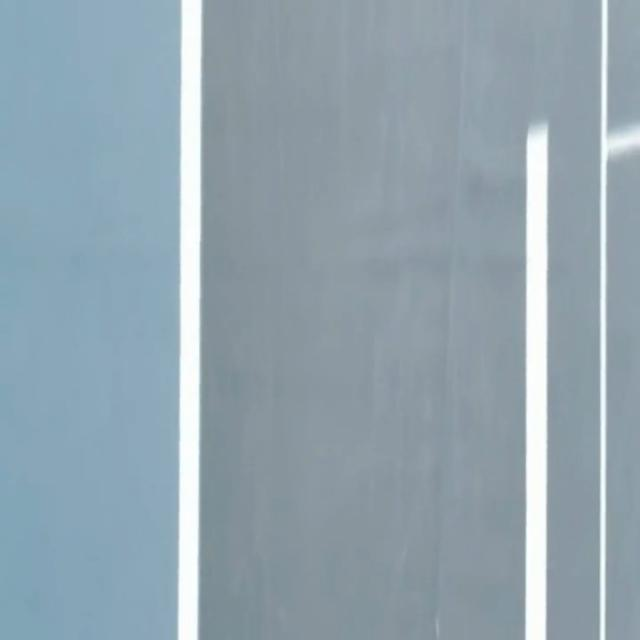center: (525, 124, 547, 639)
left: (178, 0, 201, 639)
